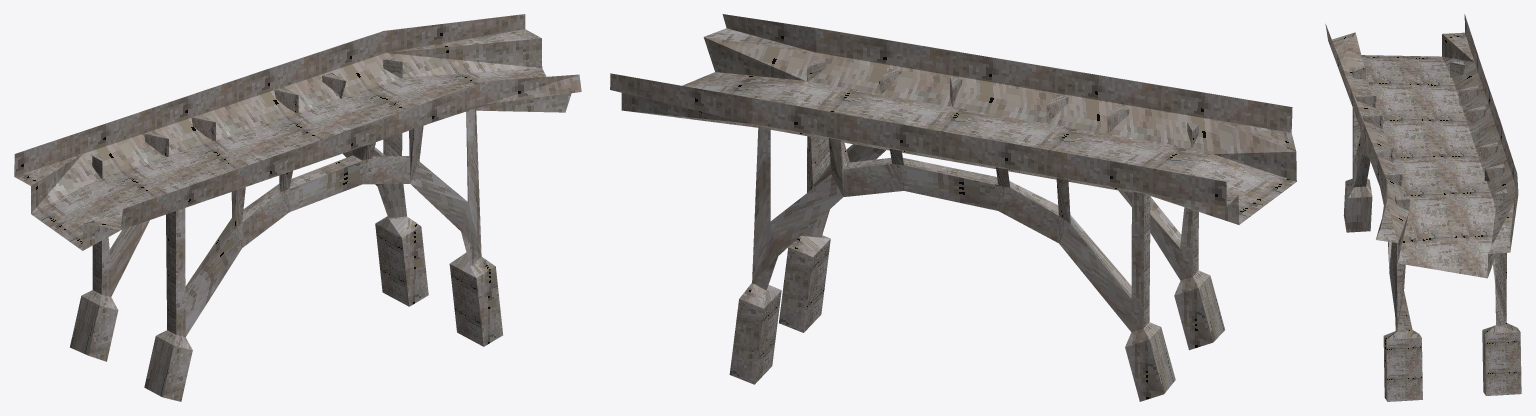
The model's file is lodsw_bridge01.obj.
3 views of the same model, side by side, from view 1: azimuth 30°, elevation 25°; view 2: azimuth 150°, elevation 25°; view 3: azimuth 270°, elevation 25° (orthographic). The views are drawn at different scales.
Parts seen in each view (by area): view 1: LODsw_bridge01; view 2: LODsw_bridge01; view 3: LODsw_bridge01.
Part boxes in pixels (x1,y1,x2,y2): LODsw_bridge01: (14, 14, 581, 401); LODsw_bridge01: (610, 14, 1296, 401); LODsw_bridge01: (1325, 14, 1521, 401).
Bounding box in the file's own units: 74.47 × 34.64 × 28.32.
1 material, 1 textured.
